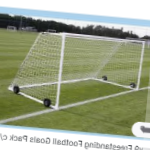goals: (8, 29, 147, 111)
